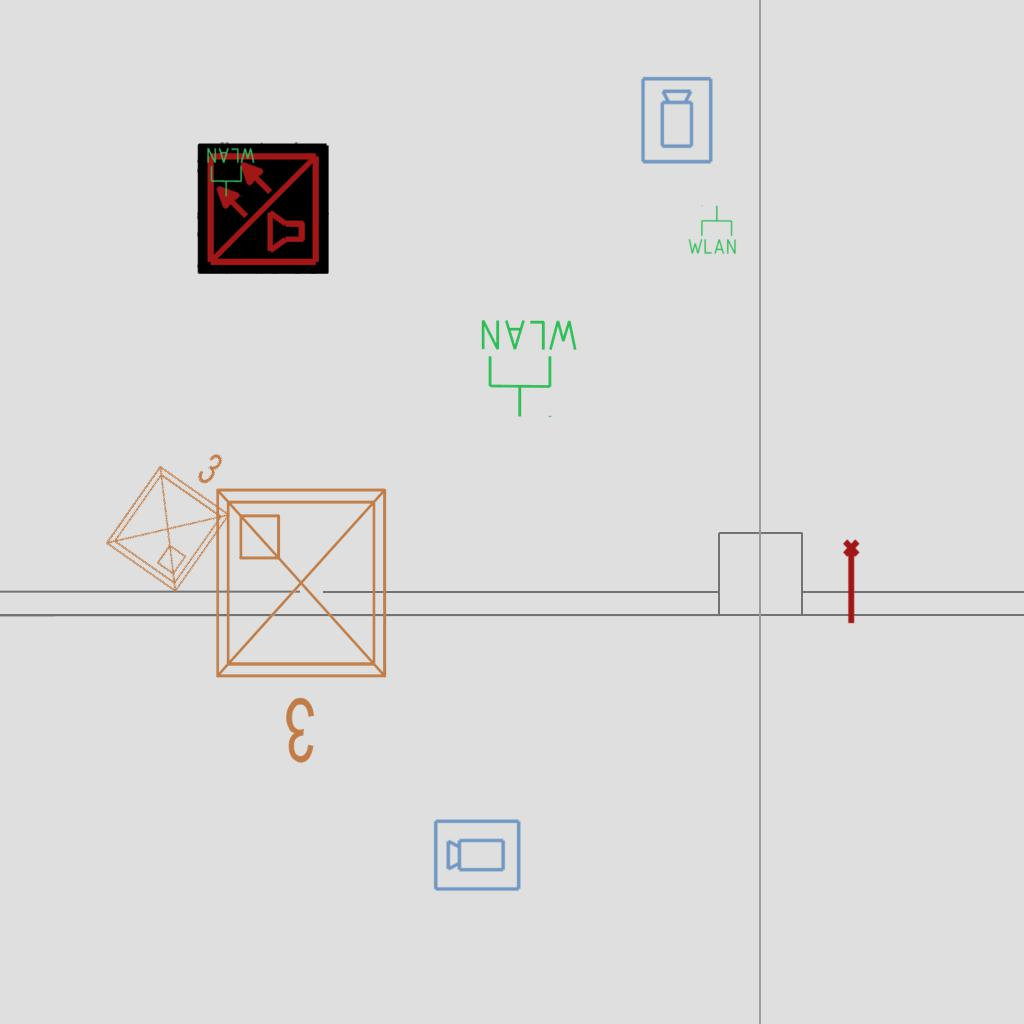ASR_Ansaugoeffnung: (841, 538, 864, 626)
Einbaudownlights_LED_Konferenzraeume: (201, 474, 409, 774), (92, 419, 264, 603)
KFO_Kamera_mit_Festobjektiv: (432, 816, 523, 893), (639, 75, 716, 166)
OKW_Multisensormelder_(Kombination_optischer_Rauch-Kahlenmonoxid_Waerme-Melder): (197, 142, 329, 274)
WLAN: (477, 316, 582, 420), (686, 204, 738, 256), (205, 146, 257, 198)
